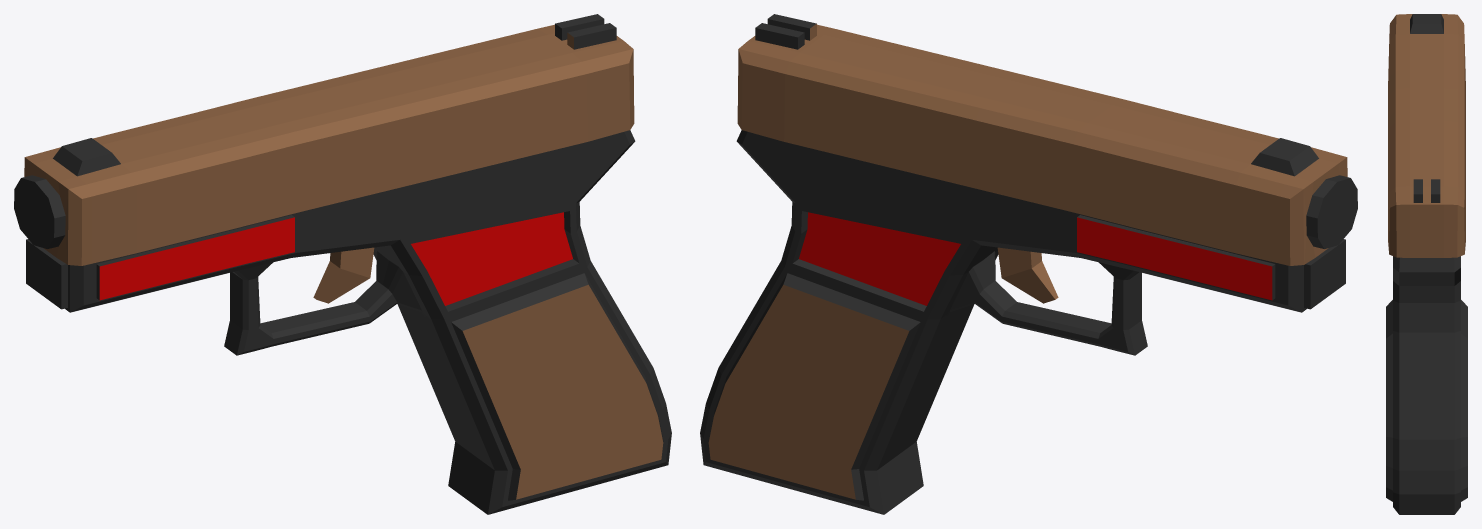
Rendered from Glock.fbx.
The picture shows the model from 3 angles, left to right: view 1: azimuth 30°, elevation 25°; view 2: azimuth 150°, elevation 25°; view 3: azimuth 270°, elevation 25°; orthographic projection. The views are drawn at different scales.
Parts seen in each view (by area): view 1: Plane; view 2: Plane; view 3: Plane.
Part boxes in pixels (x1,y1,x2,y2): Plane: [14, 14, 671, 514]; Plane: [700, 14, 1357, 514]; Plane: [1386, 14, 1467, 514].
Bounding box in the file's own units: 1072 × 739 × 177.
